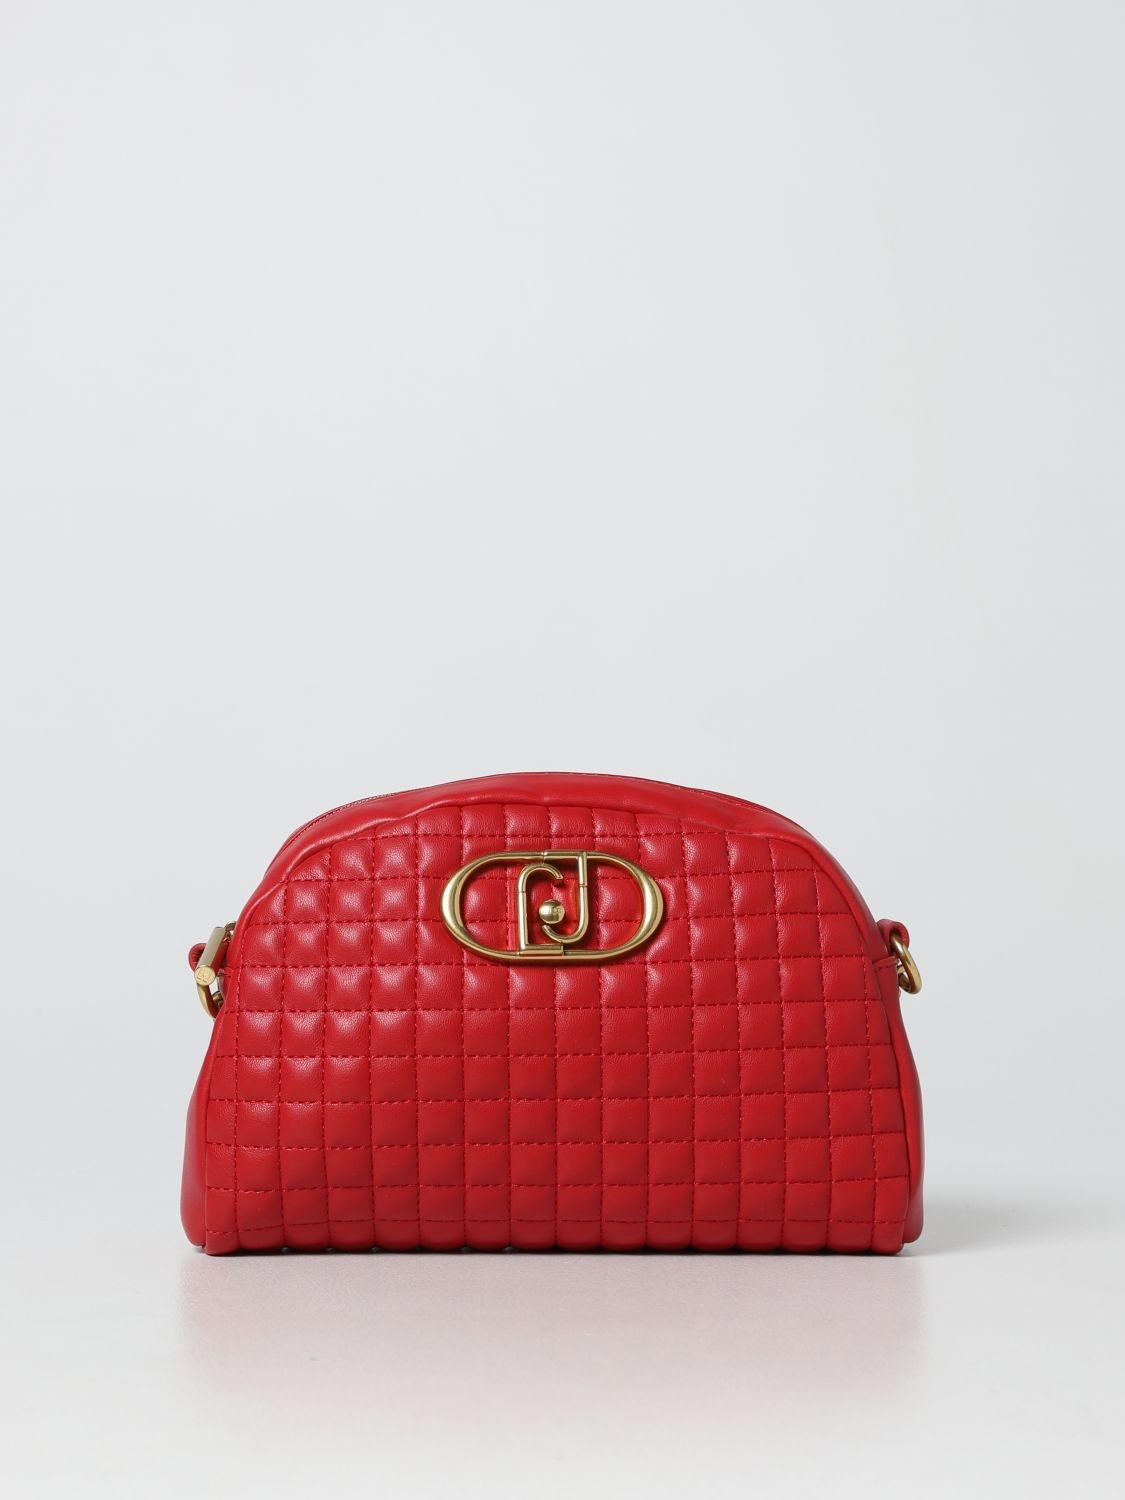LIU-JO: (516, 850, 588, 960)
